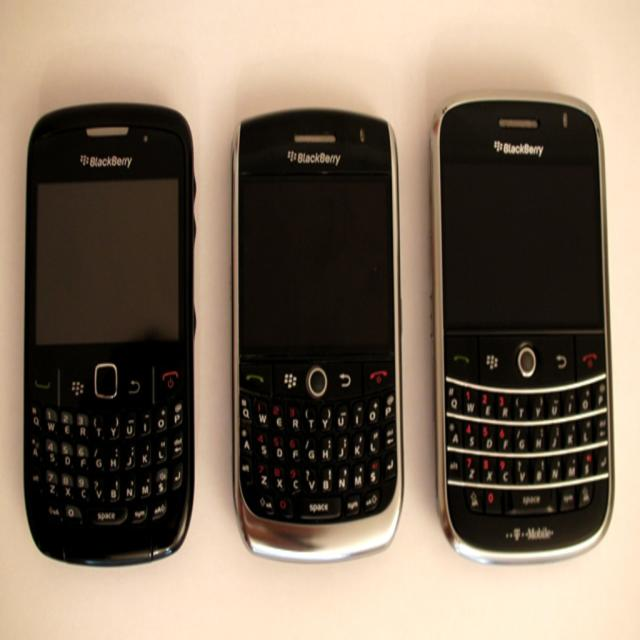Mobile-phone: (434, 85, 614, 564), (23, 100, 196, 569), (230, 108, 404, 566)
